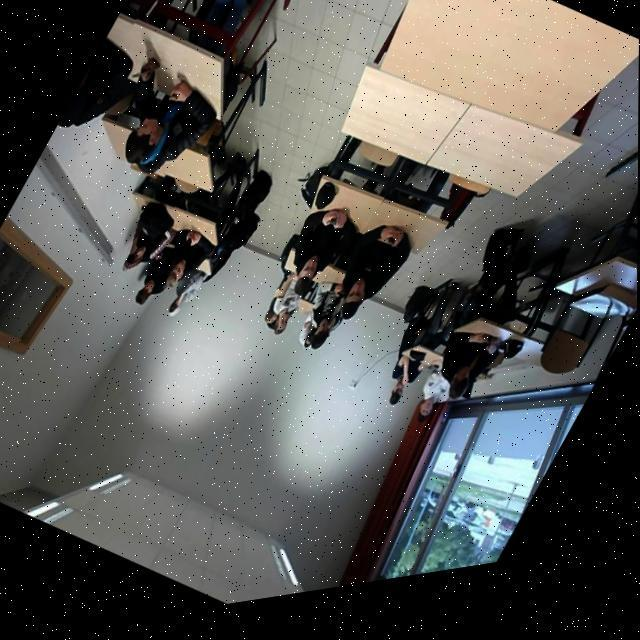phone_use: (305, 225, 409, 347), (264, 208, 357, 332), (154, 106, 221, 191), (441, 331, 521, 396), (164, 230, 213, 313), (135, 246, 184, 302), (102, 96, 138, 160)
